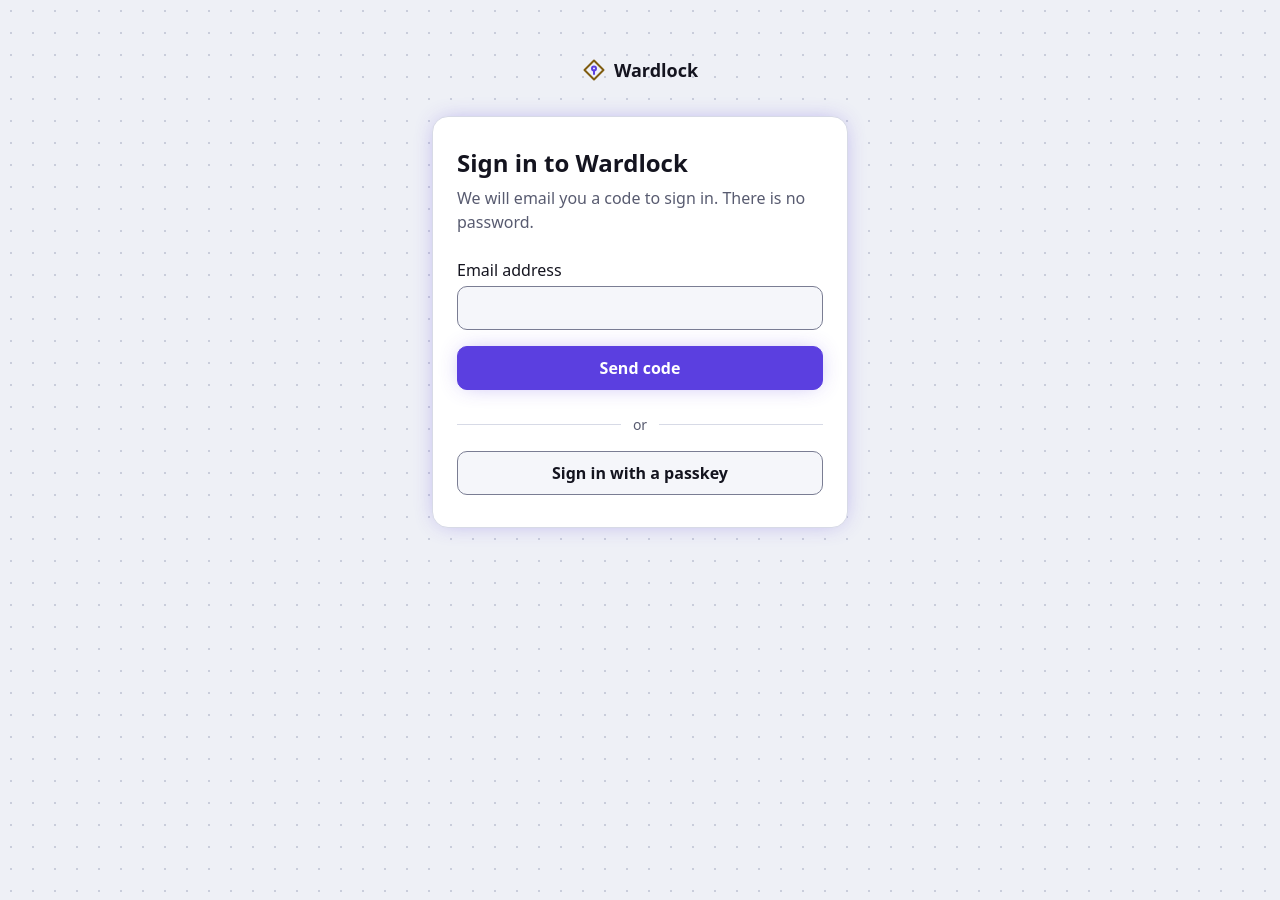
Test: email-code sign-in › sends a new code and lets the owner change address
Type "owner@example.test" into the field labelled "Email address" at point(640, 308), box [457,286,823,330]
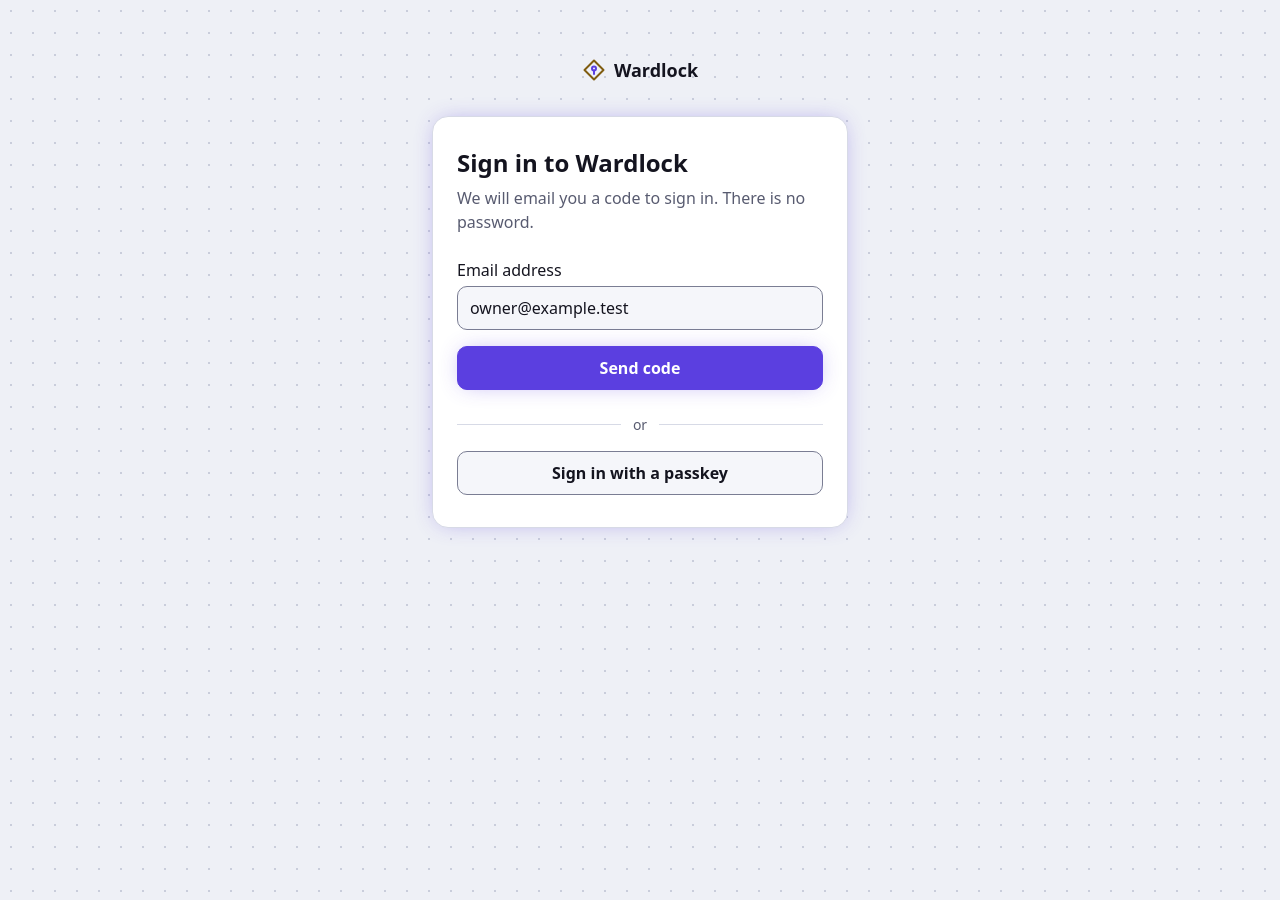
Click the button "Send code" at point(640, 368), box [457,346,823,390]
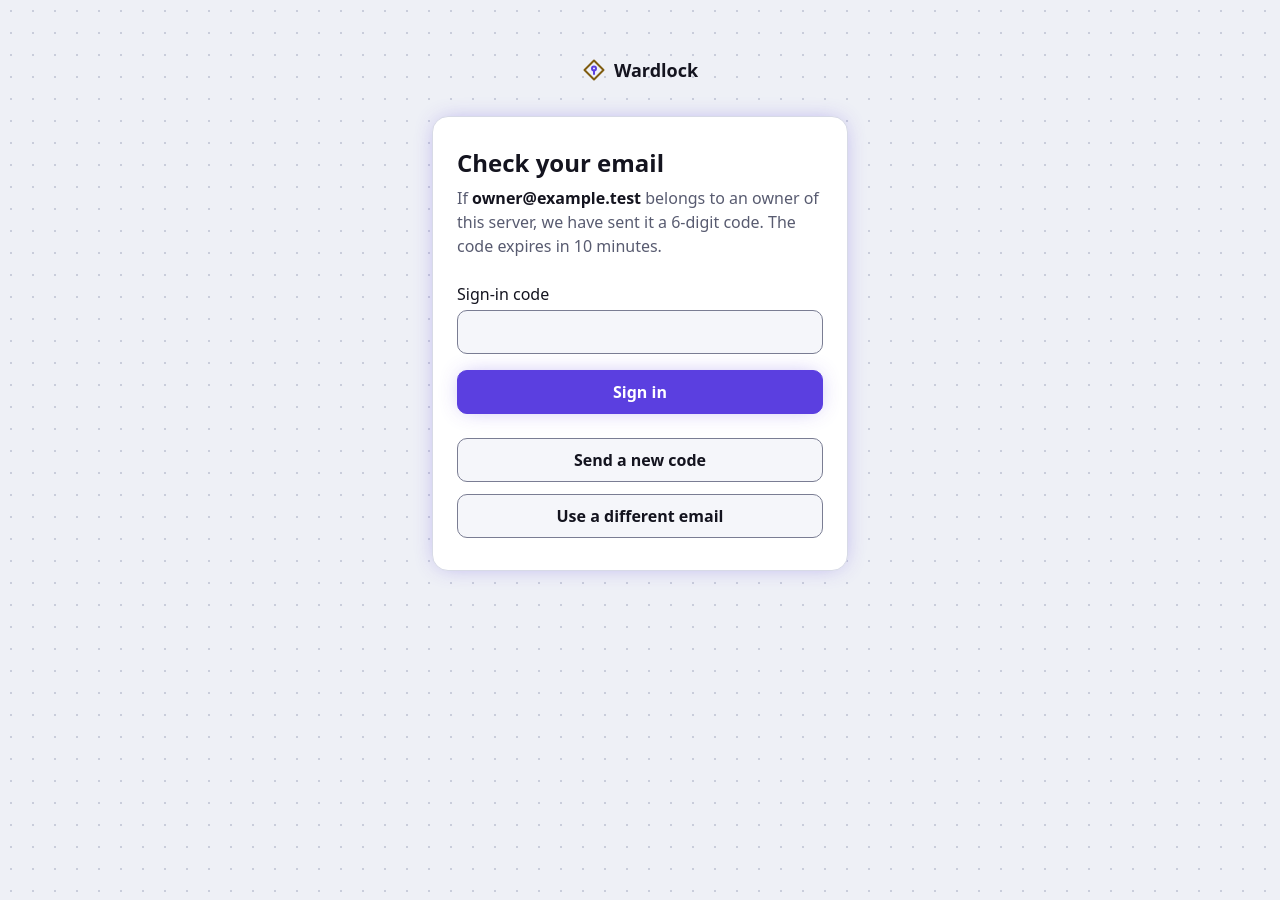
Click the button "Send a new code" at point(640, 460), box [457,438,823,482]
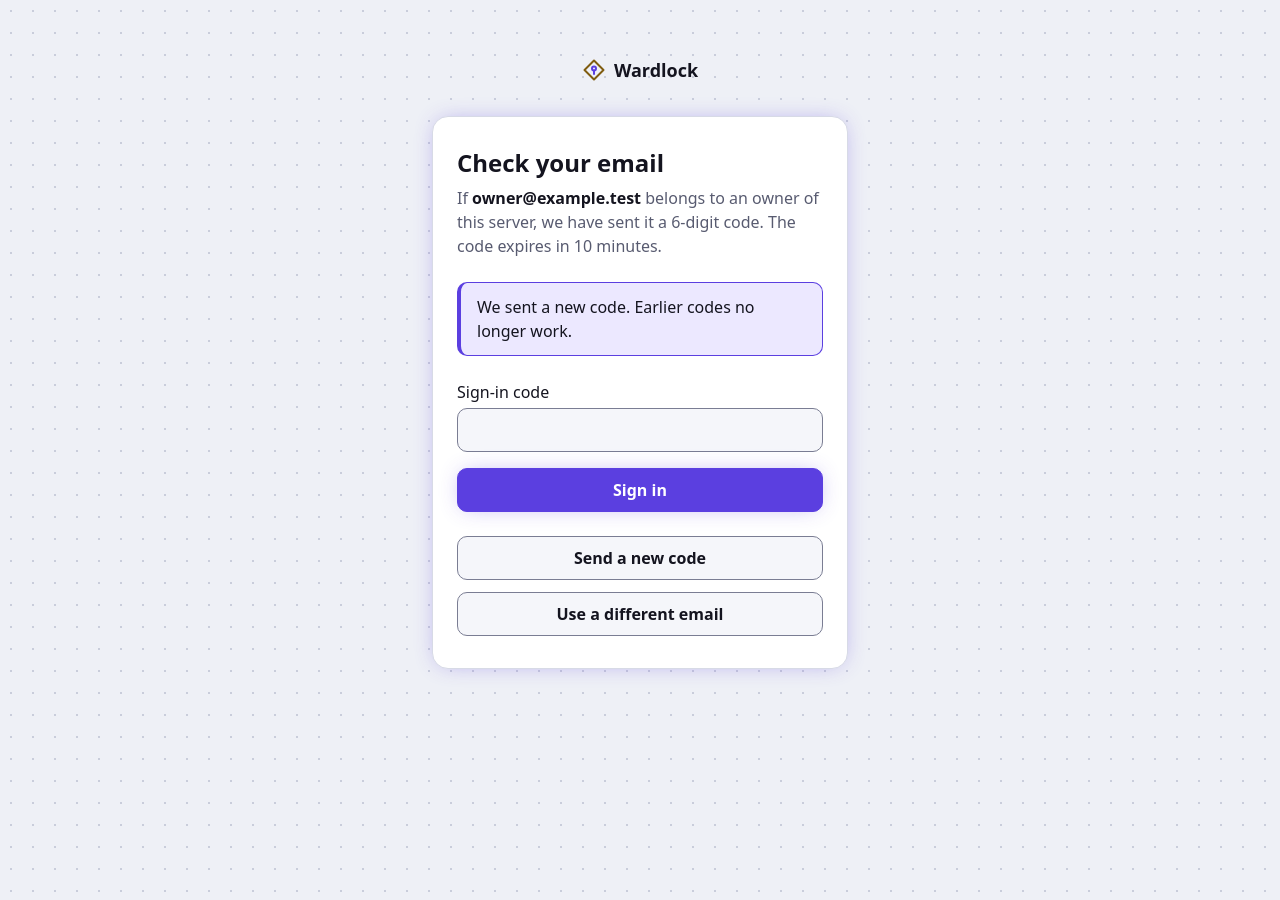
Expected: the text "We sent a new code. Earlier codes no longer work." is shown, [457,282,823,356]
Click the button "Use a different email" at point(640, 614), box [457,592,823,636]
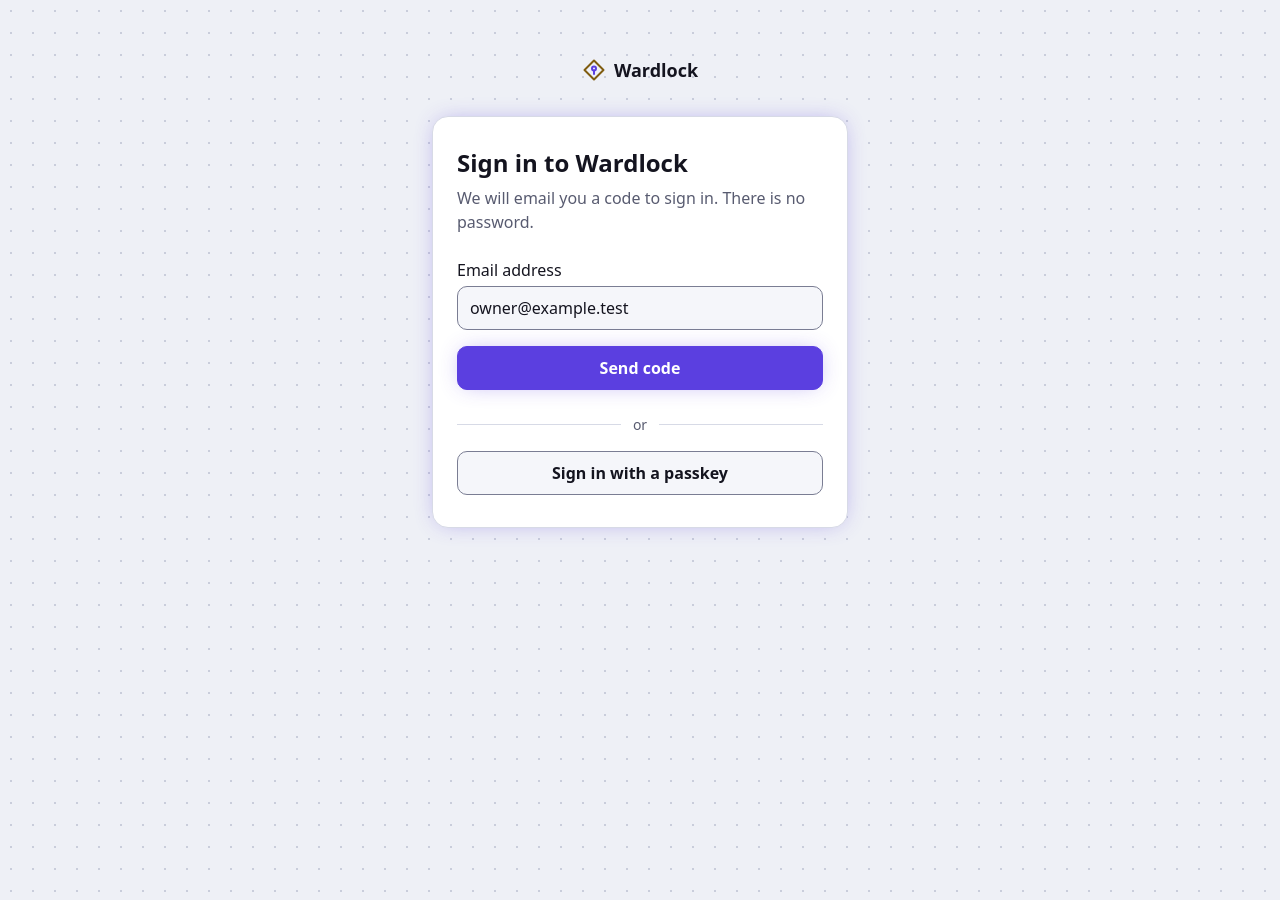
Expected: the heading "Sign in to Wardlock" is shown, [457,146,688,179]
